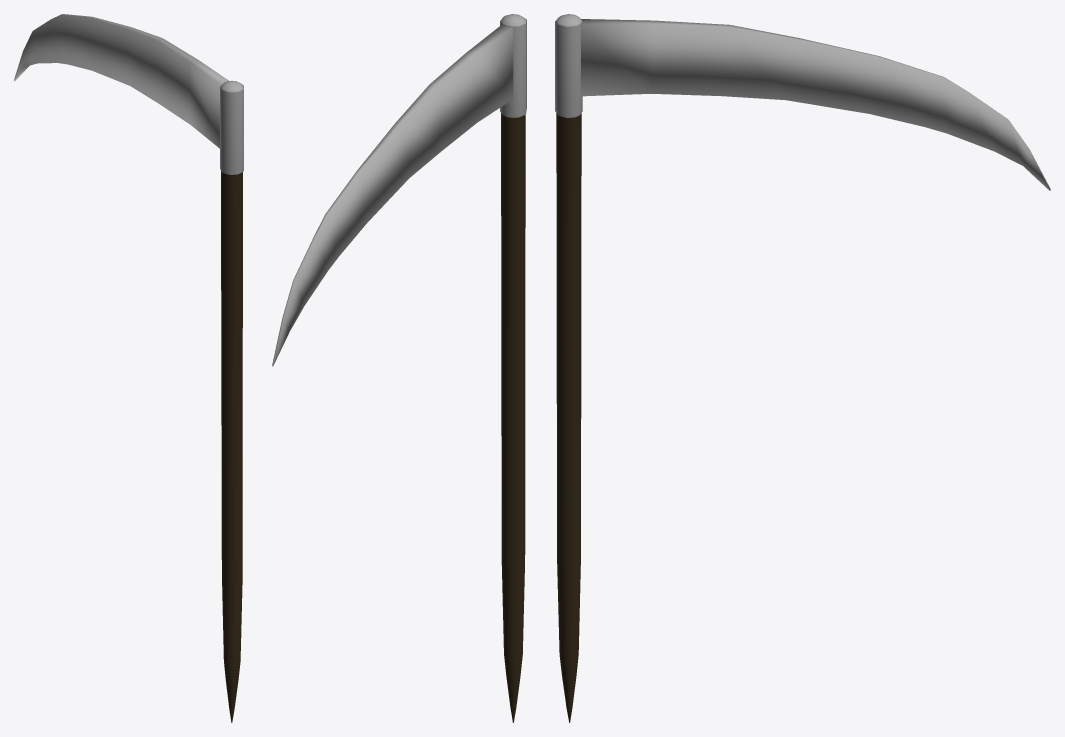
File: Scythe.fbx
3 renders of one model, left to right at view 1: azimuth 30°, elevation 25°; view 2: azimuth 150°, elevation 25°; view 3: azimuth 270°, elevation 25°, orthographic. The views are drawn at different scales.
Parts seen in each view (by area): view 1: Cylinder, Blade; view 2: Blade, Cylinder; view 3: Blade, Cylinder.
Boxes of the visible parts, left/top/right/bottom form: Cylinder: left=220, top=80, right=243, bottom=722; Blade: left=14, top=14, right=228, bottom=148; Blade: left=272, top=24, right=513, bottom=366; Cylinder: left=500, top=14, right=526, bottom=722; Blade: left=581, top=19, right=1050, bottom=190; Cylinder: left=555, top=14, right=582, bottom=722.
Size of the model in its own units: 86.88 by 2443 by 1552.
